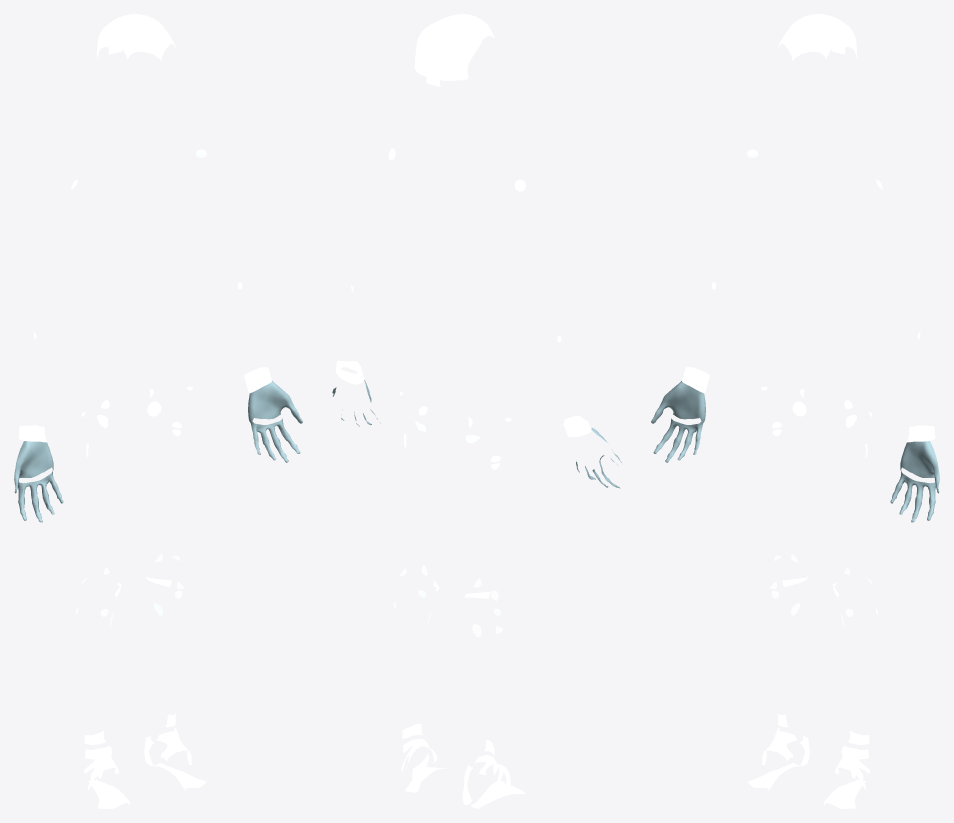
The model's file is connective_tissue.glb.
3 views of the same model, side by side, from view 1: azimuth 30°, elevation 25°; view 2: azimuth 150°, elevation 25°; view 3: azimuth 330°, elevation 25° (orthographic).
Parts seen in each view (by area): view 1: Palmar aponeurosis.l, Palmar aponeurosis.r, Epicranial aponeurosis.r, Epicranial aponeurosis.l, Plantar aponeurosis.r; view 2: Epicranial aponeurosis.r, Epicranial aponeurosis.l, Plantar aponeurosis.r; view 3: Palmar aponeurosis.r, Palmar aponeurosis.l, Epicranial aponeurosis.l, Epicranial aponeurosis.r, Plantar aponeurosis.l.
Part boxes in pixels (box(x1,y1,x2,y2)): Palmar aponeurosis.l: box(248, 381, 302, 462); Palmar aponeurosis.r: box(14, 441, 63, 522); Epicranial aponeurosis.r: box(97, 15, 160, 60); Epicranial aponeurosis.l: box(115, 14, 175, 60); Plantar aponeurosis.r: box(87, 779, 129, 808); Epicranial aponeurosis.r: box(432, 15, 494, 86); Epicranial aponeurosis.l: box(414, 14, 469, 85); Plantar aponeurosis.r: box(471, 781, 525, 808); Palmar aponeurosis.r: box(651, 381, 705, 462); Palmar aponeurosis.l: box(890, 441, 939, 522); Epicranial aponeurosis.l: box(793, 15, 856, 60); Epicranial aponeurosis.r: box(778, 14, 838, 60); Plantar aponeurosis.l: box(824, 779, 866, 808).
Bounding box in the file's own units: 0.6707 × 1.7 × 0.2025.
